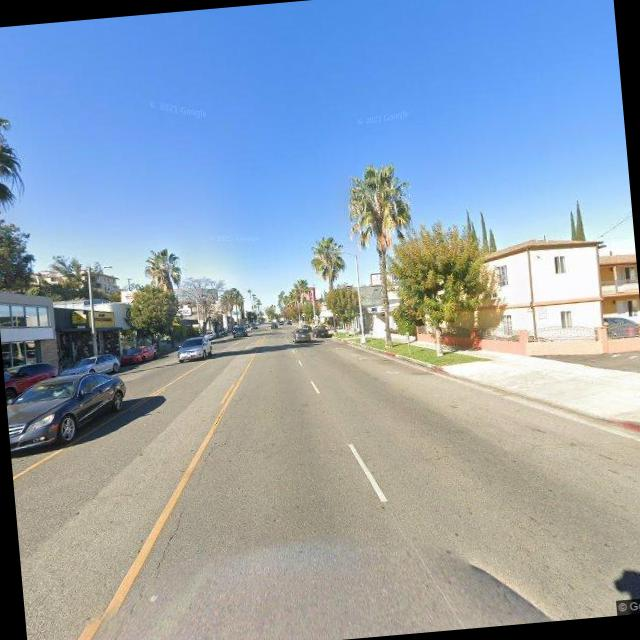pothole: (147, 508, 191, 576)
